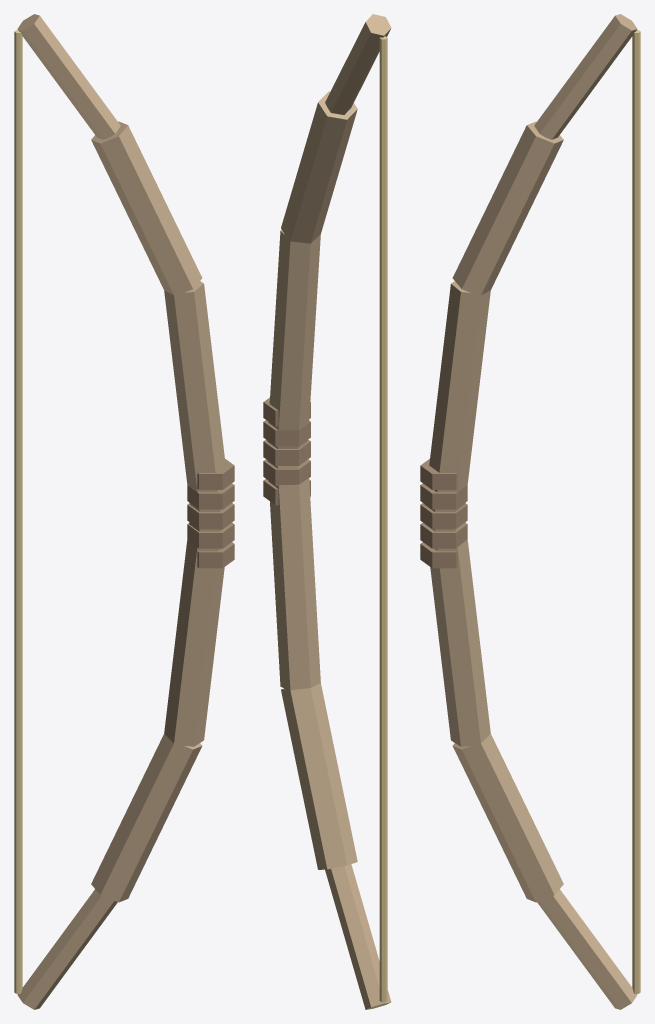
The model's file is bow.glb.
3 views of the same model, side by side, from view 1: azimuth 90°, elevation 25°; view 2: azimuth 210°, elevation 25°; view 3: azimuth 270°, elevation 25° (orthographic).
Visible parts, largest first — view 1: bow_wood, bow_string, bow_wrap; view 2: bow_wood, bow_string, bow_wrap; view 3: bow_wood, bow_string, bow_wrap.
Boxes of the visible parts, x1,y1,x2,y2 form: bow_wood: (17,14,230,1009); bow_string: (14,30,22,993); bow_wrap: (187,459,234,568); bow_wood: (267,14,391,1009); bow_string: (379,36,387,1002); bow_wrap: (263,397,310,505); bow_wood: (424,14,637,1009); bow_string: (632,30,640,993); bow_wrap: (420,459,467,568).
Bounding box in the file's own units: 0.0202 × 0.5407 × 0.1087.
